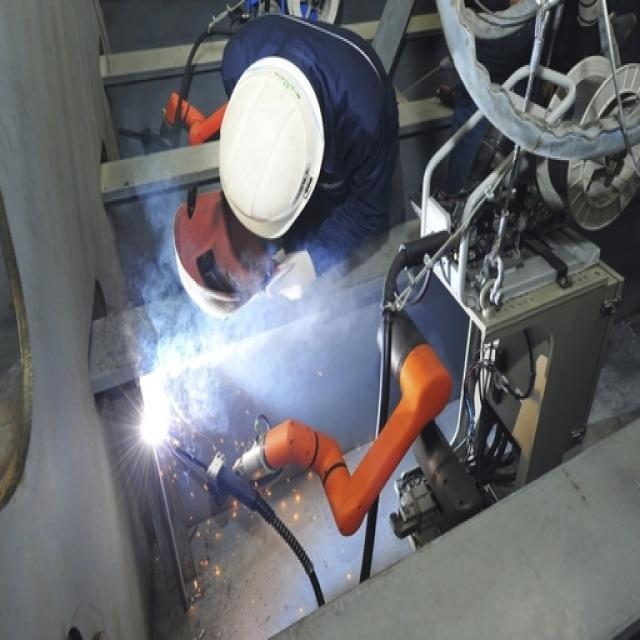welding: (139, 403, 173, 448)
